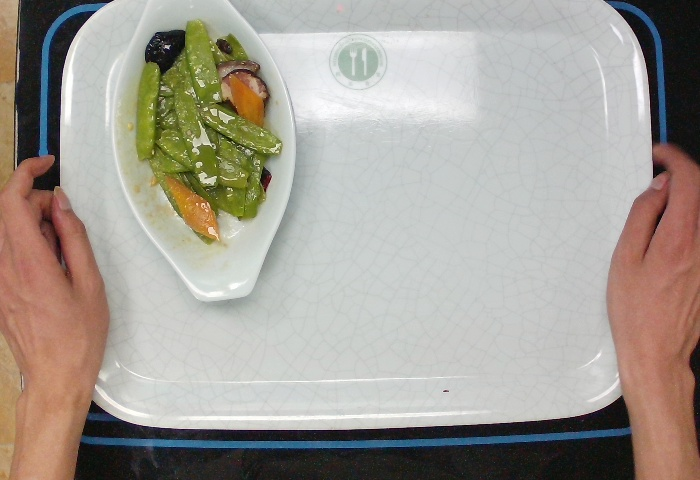JYsf-Yu_Pan: (107, 1, 299, 309)
